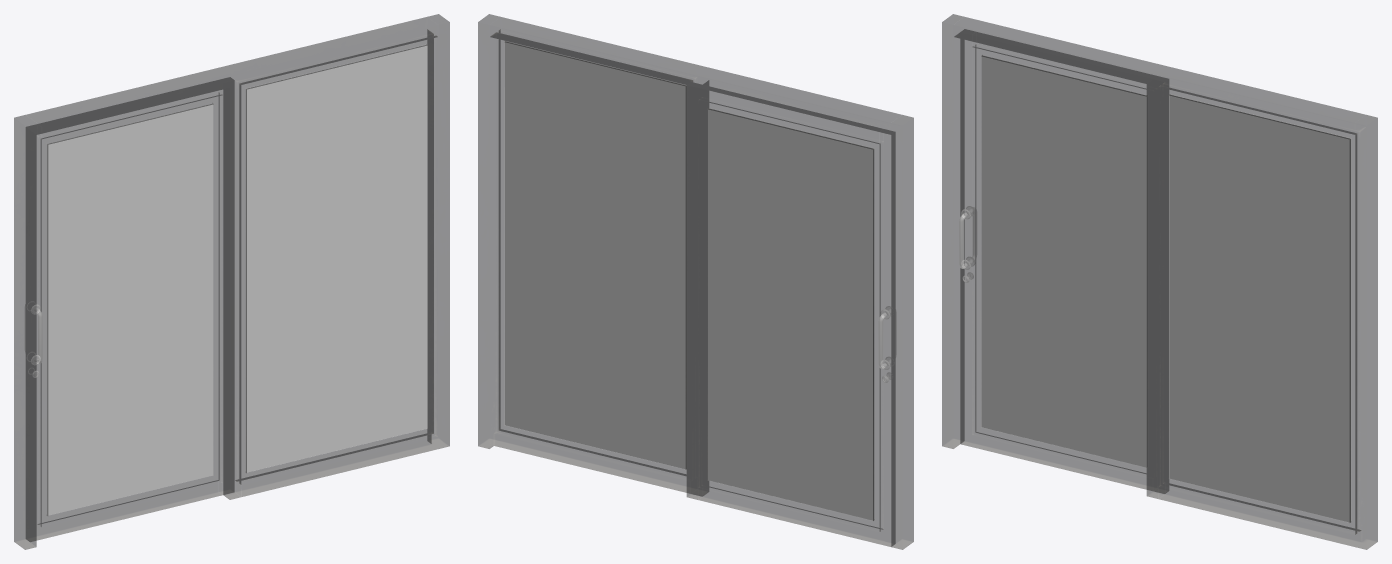
File: Window_2_Door.glb
The picture shows the model from 3 angles, left to right: view 1: azimuth 30°, elevation 25°; view 2: azimuth 150°, elevation 25°; view 3: azimuth 330°, elevation 25°; orthographic projection.
Parts seen in each view (by area): view 1: Window with sliding door 220x10x210.001, Window with sliding door 220x10x210, Sliding door; view 2: Window with sliding door 220x10x210.001, Window with sliding door 220x10x210, Sliding door; view 3: Window with sliding door 220x10x210.001, Window with sliding door 220x10x210, Sliding door, Door Handle.
Part boxes in pixels (x1,y1,x2,y2): Window with sliding door 220x10x210.001: (47, 44, 427, 515); Window with sliding door 220x10x210: (14, 14, 449, 549); Sliding door: (26, 77, 234, 541); Window with sliding door 220x10x210.001: (505, 41, 874, 520); Window with sliding door 220x10x210: (478, 14, 913, 549); Sliding door: (687, 82, 895, 546); Window with sliding door 220x10x210.001: (981, 55, 1350, 522); Window with sliding door 220x10x210: (942, 14, 1377, 549); Sliding door: (960, 29, 1168, 493); Door Handle: (959, 206, 976, 282).
Size of the model in its own units: 2.2 by 2.1 by 0.15.
Materials: 2 (1 with a texture image).
